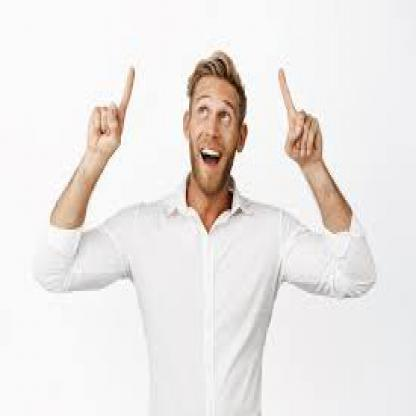Up: (272, 63, 333, 188), (84, 56, 144, 159)
